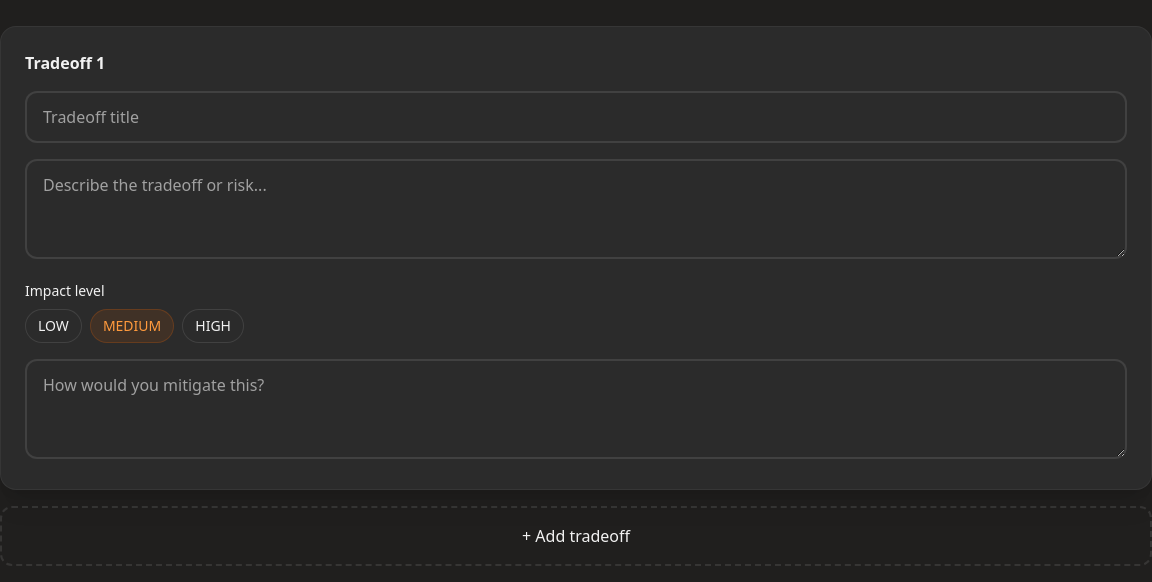
Test: Step7Tradeoffs › should allow adding tradeoffs up to 5
The image size is (1152, 582).
# Add 4 more tradeoffs (already have 1)
Click the button "+ Add tradeoff": point(576, 536) x1=0 y1=506 x2=1151 y2=566
(page scrolled)
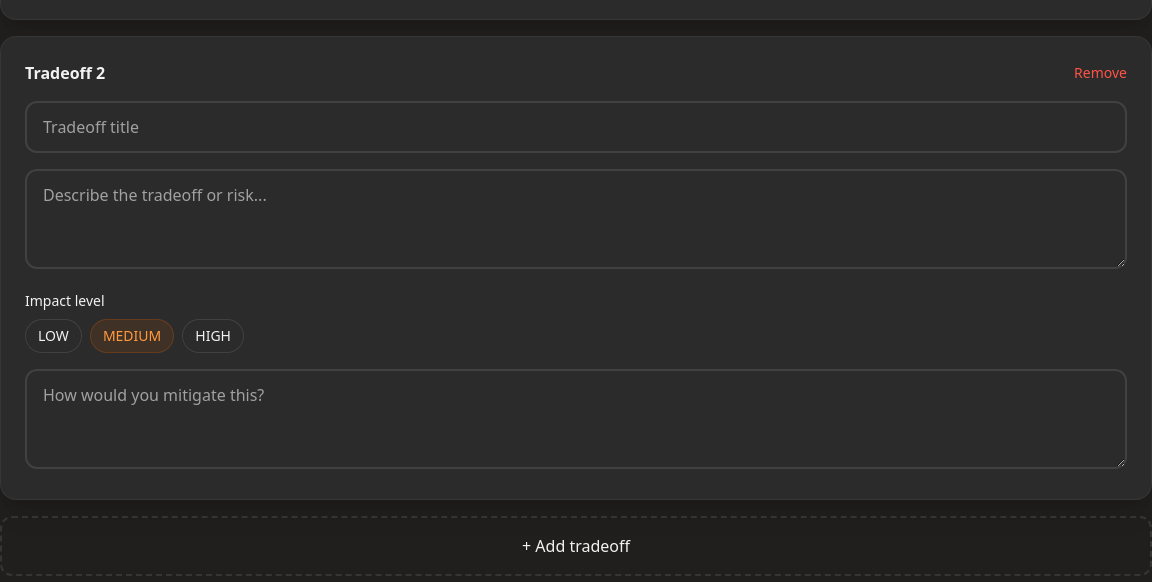
Click the button "+ Add tradeoff": point(576, 546) x1=0 y1=516 x2=1151 y2=576
(page scrolled)
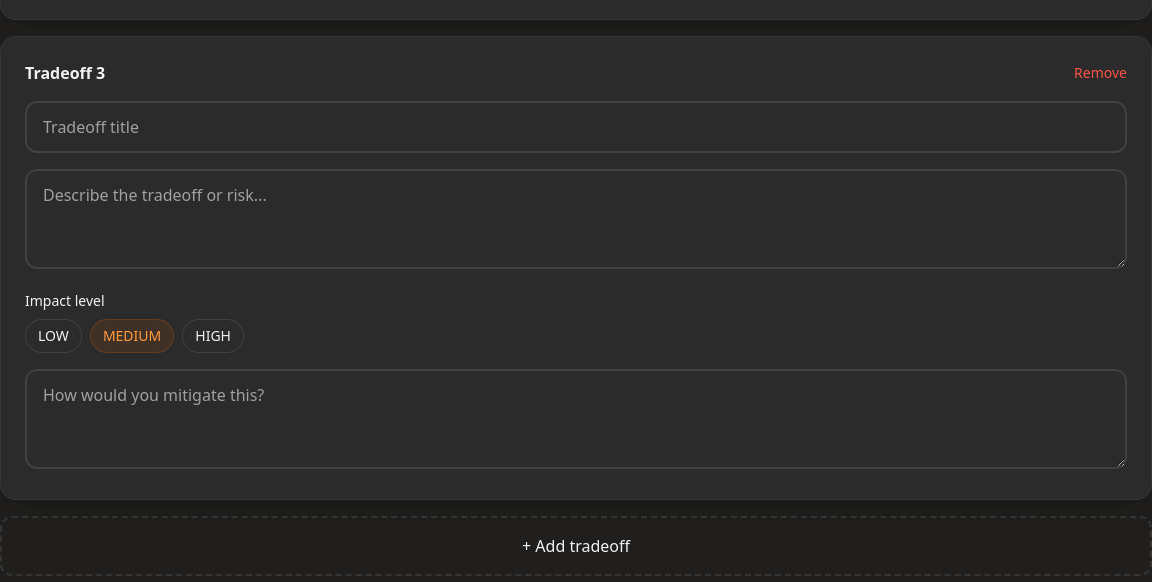
Click the button "+ Add tradeoff": point(576, 546) x1=0 y1=516 x2=1151 y2=576
(page scrolled)
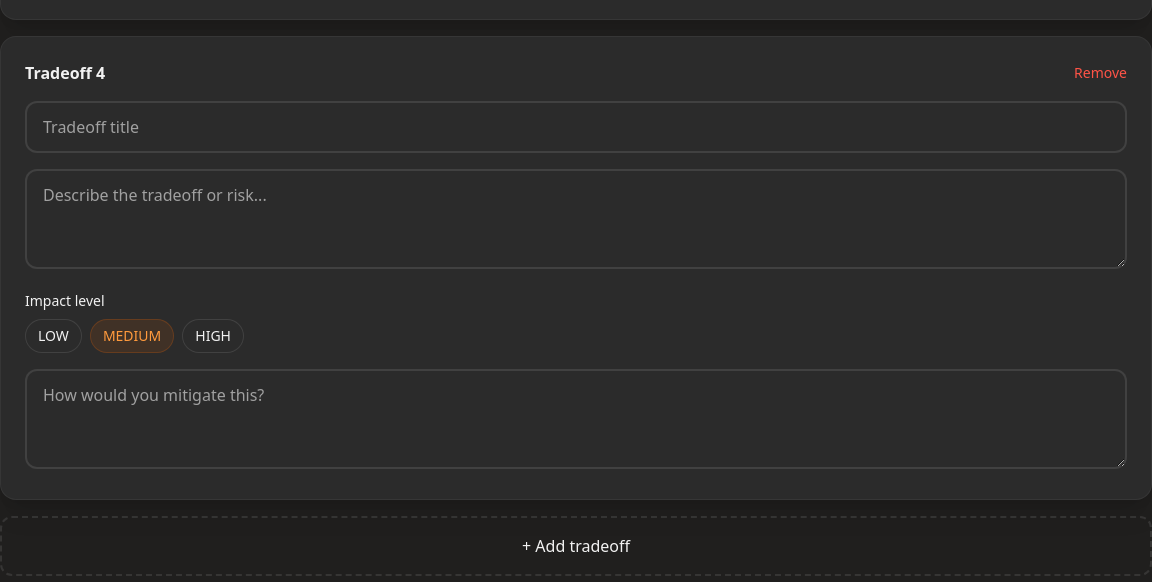
Click the button "+ Add tradeoff": point(576, 546) x1=0 y1=516 x2=1151 y2=576
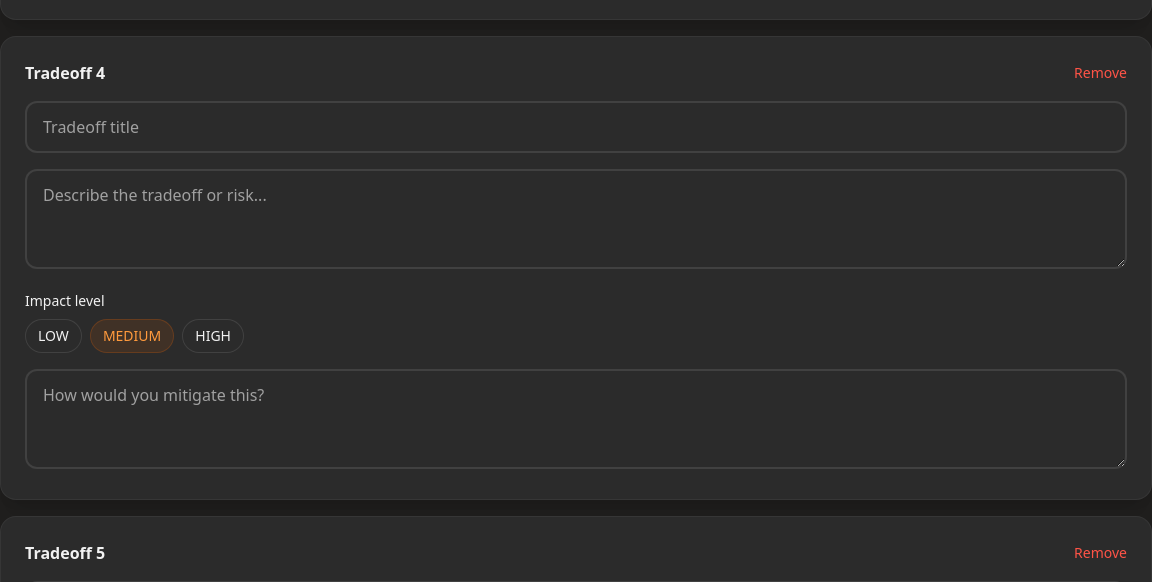
Now the heading "Tradeoff 5" is shown, box x1=25 y1=541 x2=105 y2=565
Now the button "+ Add tradeoff" is gone
